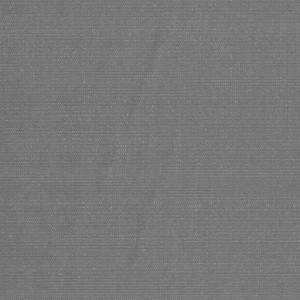Wrinkle: (126, 29, 187, 268)
